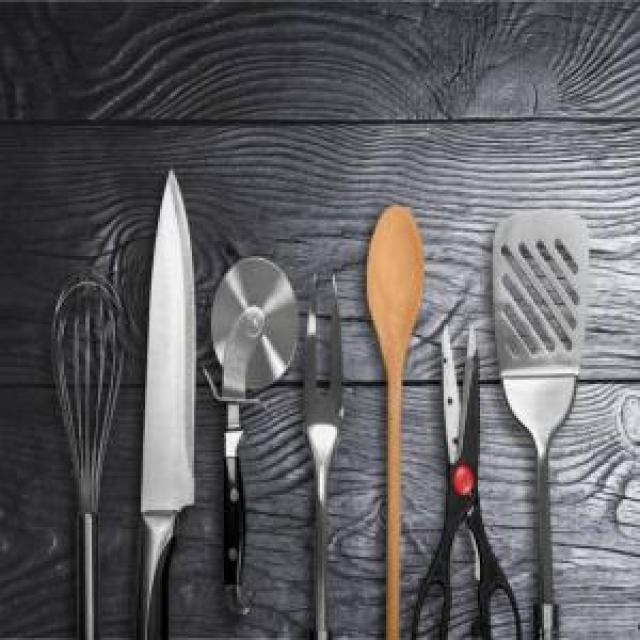knife: (128, 168, 203, 638)
